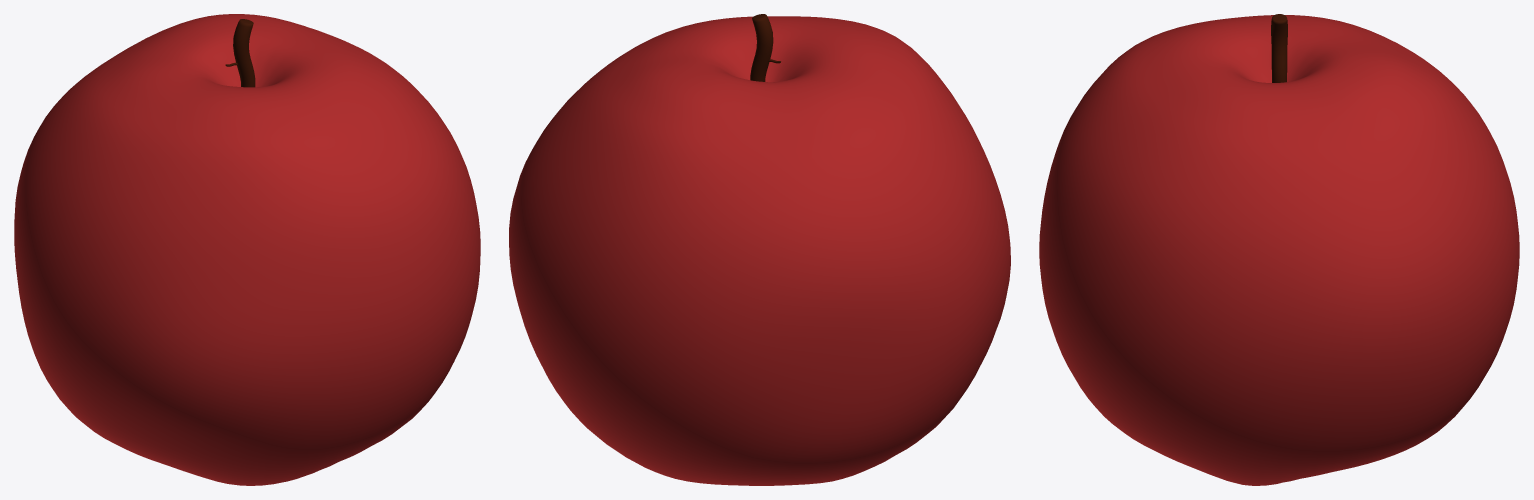
Rendered from red_apple.fbx.
3 views of the same model, side by side, from view 1: azimuth 30°, elevation 25°; view 2: azimuth 150°, elevation 25°; view 3: azimuth 270°, elevation 25° (orthographic). The views are drawn at different scales.
Visible parts, largest first — view 1: red_apple; view 2: red_apple; view 3: red_apple.
Boxes of the visible parts, box(x1,y1,x2,y2) form: red_apple: box(14, 14, 480, 485); red_apple: box(509, 14, 1010, 485); red_apple: box(1039, 14, 1519, 485).
Size of the model in its own units: 1.8 by 1.8 by 1.79.
